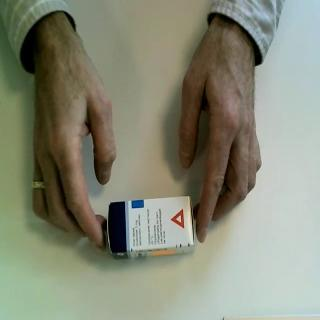xanor2mg: (106, 193, 198, 263)
